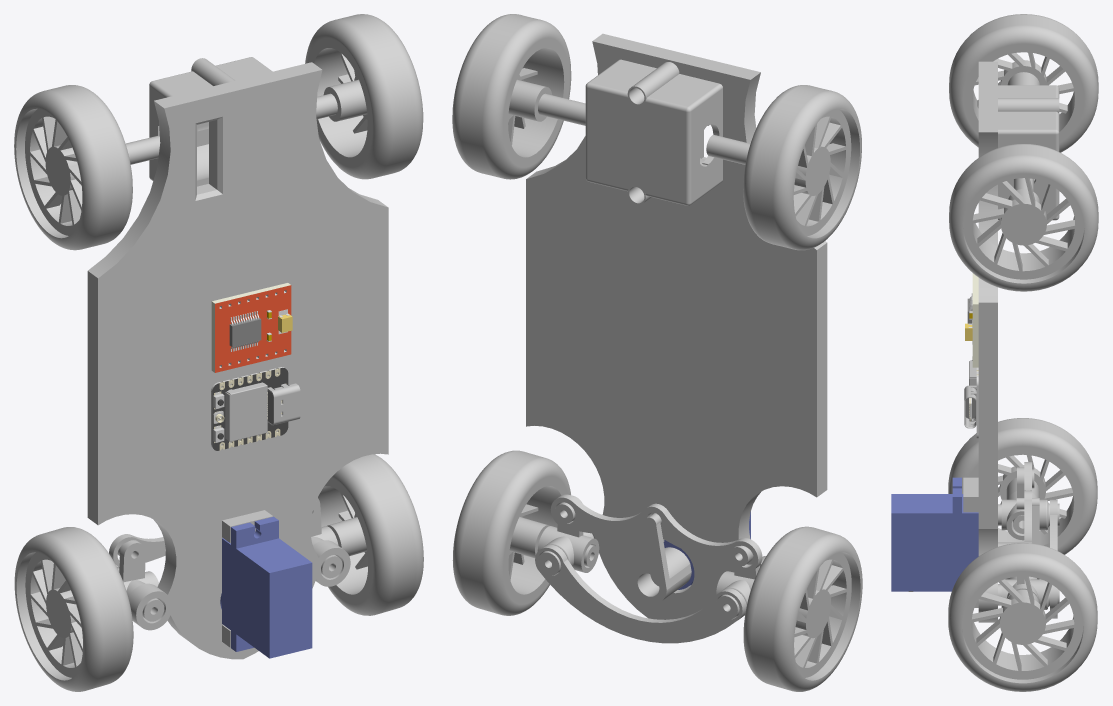
The model's file is CHASIS MINI CAR.glb.
3 renders of one model, left to right at view 1: azimuth 30°, elevation 25°; view 2: azimuth 150°, elevation 25°; view 3: azimuth 270°, elevation 25°, orthographic. The views are drawn at different scales.
Parts seen in each view (by area): view 1: CHASIS (2), Rear Right Wheel_node, Front Right Wheel_node, Rear left Wheel_node, Front Left Wheel_node, Body1_node_30, Body1, Motor lid_node, Body1_node_25, Body1_node_27, Wheel mount right (1), Body1_node_17 (+2 smaller); view 2: CHASIS (2), Rear Right Wheel_node, Rear left Wheel_node, Front Right Wheel_node, Motor lid_node, Front Left Wheel_node, Front Wheels holder_node, Wheel turner_node, Servo Pin_node, Wheel mount right_node, Wheel mount right (1); view 3: Rear left Wheel_node, Front Left Wheel_node, Rear Right Wheel_node, CHASIS (2), Front Right Wheel_node, Body1_node_30, Motor lid_node, Wheel mount right (1), Body1, Wheel mount right_node, Wheel turner_node, Front Wheels holder_node (+2 smaller).
Boxes of the visible parts, x1,y1,x2,y2 form: CHASIS (2): [87, 62, 388, 659]; Rear Right Wheel_node: [14, 85, 160, 250]; Front Right Wheel_node: [14, 527, 133, 691]; Rear left Wheel_node: [305, 14, 423, 179]; Front Left Wheel_node: [318, 454, 423, 615]; Body1_node_30: [220, 516, 312, 658]; Body1: [211, 283, 292, 372]; Motor lid_node: [149, 57, 269, 180]; Body1_node_25: [225, 382, 267, 441]; Body1_node_27: [211, 367, 288, 450]; Wheel mount right (1): [117, 540, 164, 621]; Body1_node_17: [267, 383, 300, 425]; CHASIS (2): [526, 33, 827, 619]; Rear Right Wheel_node: [706, 85, 861, 250]; Rear left Wheel_node: [452, 14, 585, 179]; Front Right Wheel_node: [743, 526, 862, 691]; Motor lid_node: [585, 70, 708, 205]; Front Left Wheel_node: [452, 450, 597, 615]; Front Wheels holder_node: [535, 544, 746, 643]; Wheel turner_node: [550, 494, 762, 572]; Servo Pin_node: [630, 513, 691, 604]; Wheel mount right_node: [537, 495, 599, 575]; Wheel mount right (1): [716, 545, 759, 619]; Rear left Wheel_node: [949, 144, 1098, 291]; Front Left Wheel_node: [948, 543, 1097, 691]; Rear Right Wheel_node: [949, 14, 1098, 152]; CHASIS (2): [963, 61, 1024, 622]; Front Right Wheel_node: [948, 418, 1097, 554]; Body1_node_30: [891, 477, 978, 591]; Motor lid_node: [1024, 85, 1059, 220]; Wheel mount right (1): [998, 467, 1059, 540]; Body1: [965, 273, 978, 367]; Wheel mount right_node: [998, 576, 1059, 609]; Wheel turner_node: [1024, 462, 1031, 543]; Front Wheels holder_node: [1050, 499, 1057, 618].
Bounding box in the file's own units: 94.71 × 155 × 53.91.
